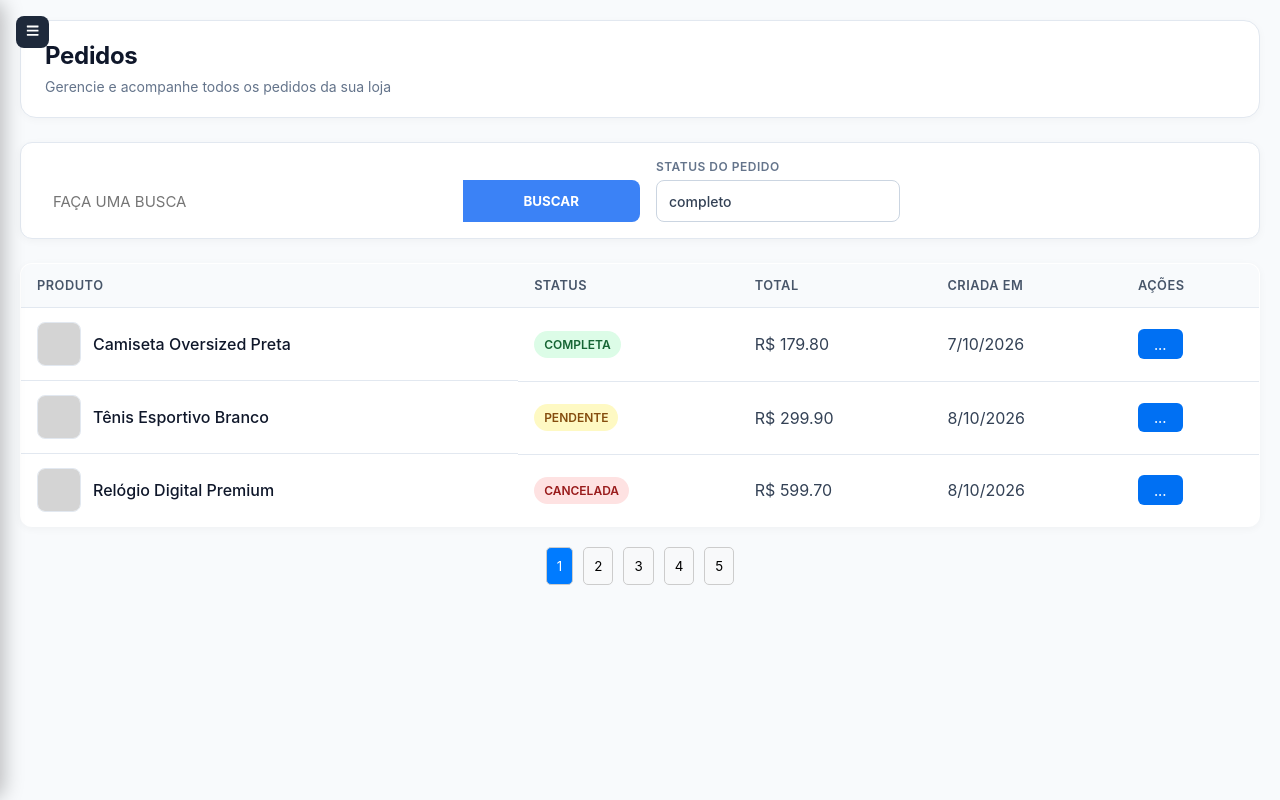
Scenario: when opening the order modal › should open the product modal successfully
The width and height of the screenshot is (1280, 800).
Expected: the text "Camiseta Oversized Preta" is shown, [21,308,518,381]
What coordinates should you click on to do the following:
click the button "..." in the row of "Camiseta Oversized Preta"
I would click on:
 (1160, 344)
Its box is [1138,329,1183,359].
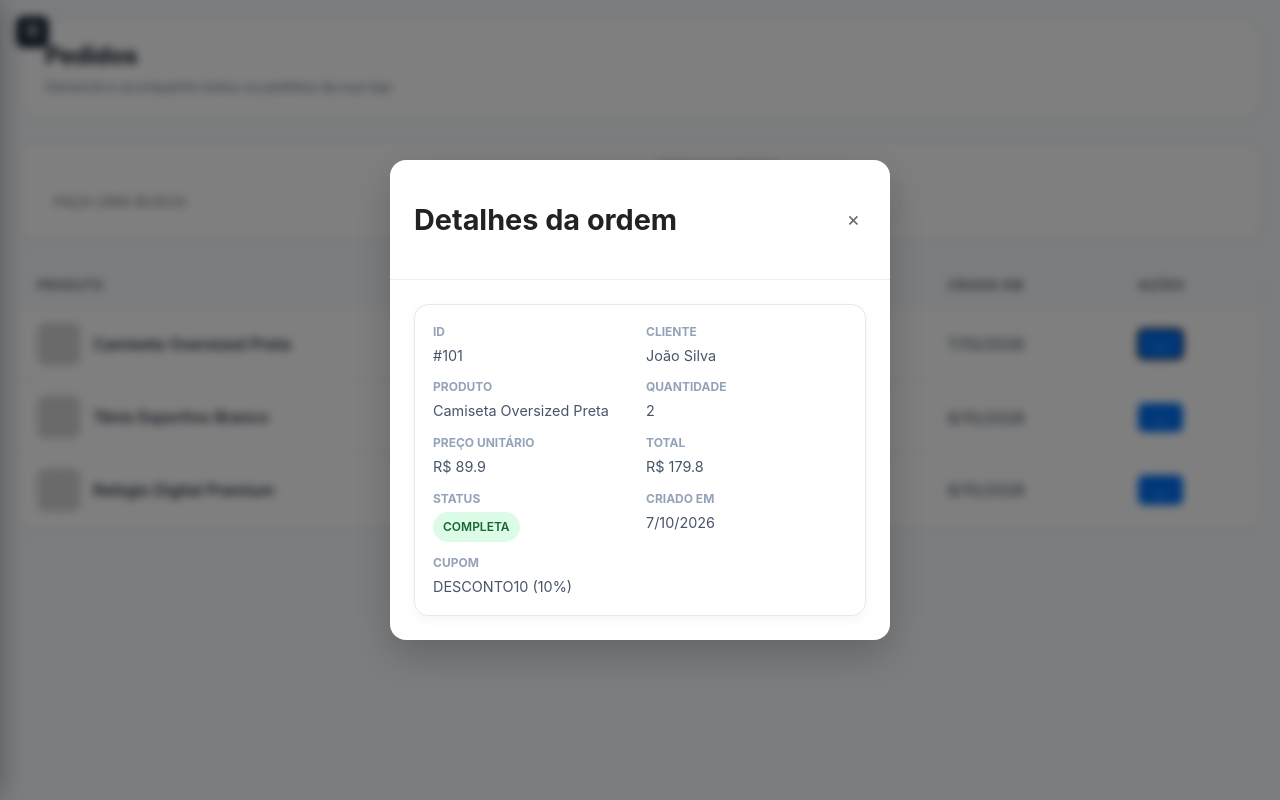
Now the heading "Detalhes da ordem" is shown, box [414,202,677,237]
